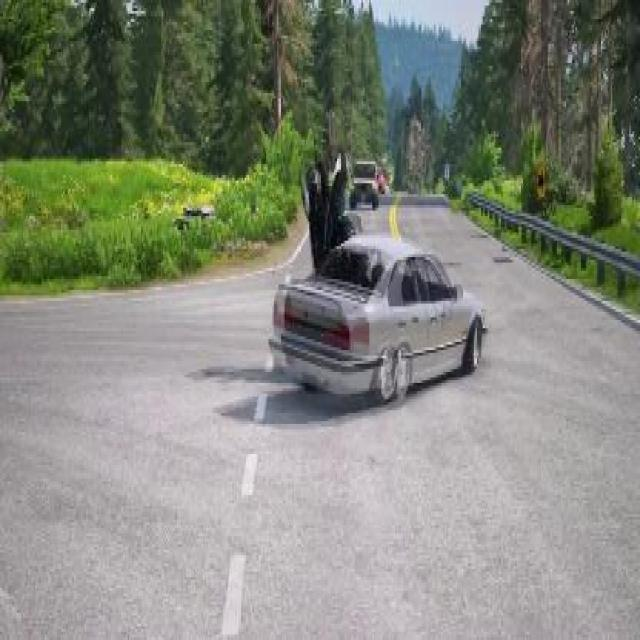accident: (269, 137, 491, 416)
